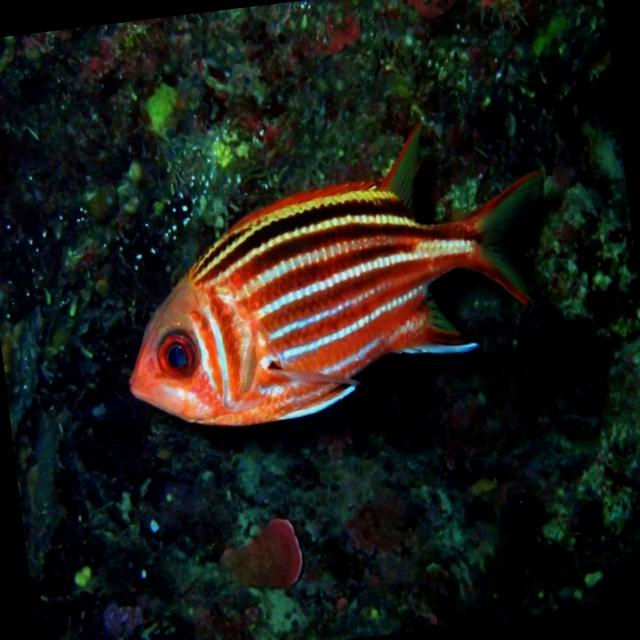Asker Baligi: (94, 94, 555, 468)
